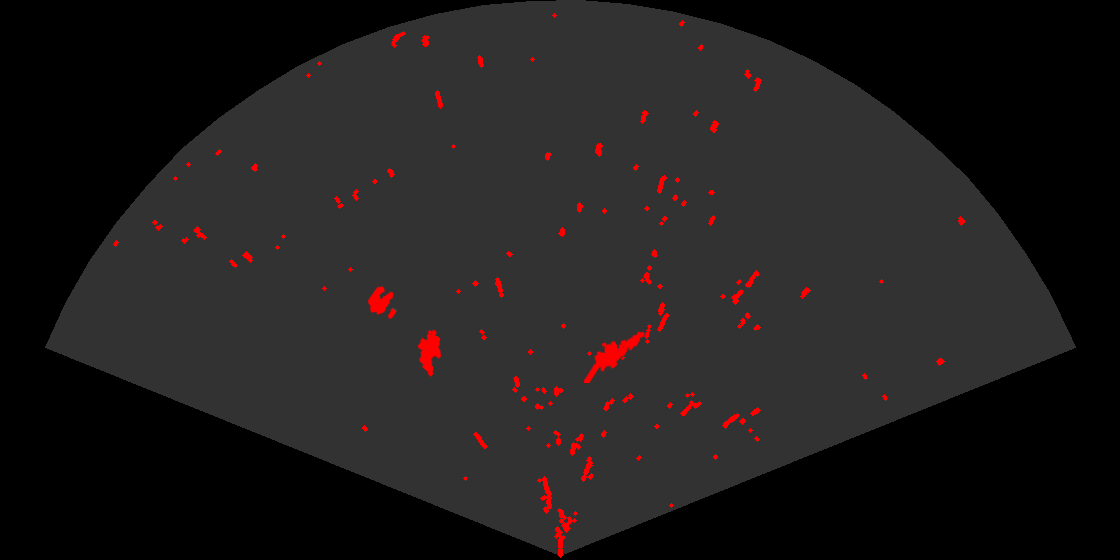AUV: (416, 328, 443, 378)
ball: (366, 285, 398, 320)
frogman: (584, 330, 646, 383)
